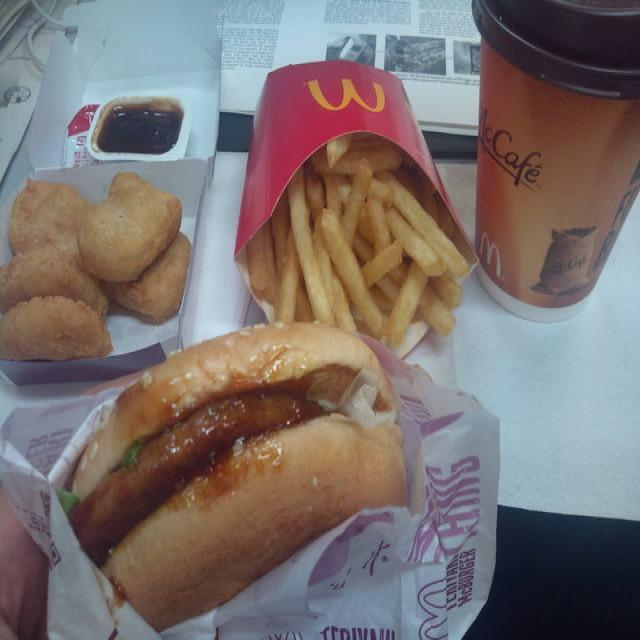French Fries: (230, 133, 468, 330)
Hamburger: (64, 320, 410, 610)
